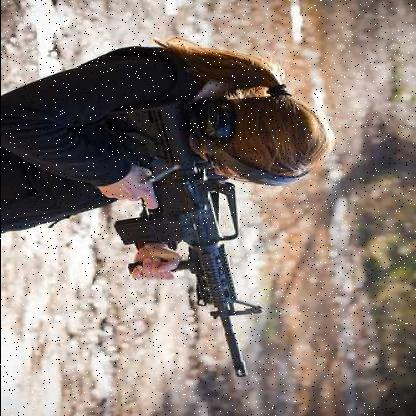rifle: (99, 91, 272, 390)
